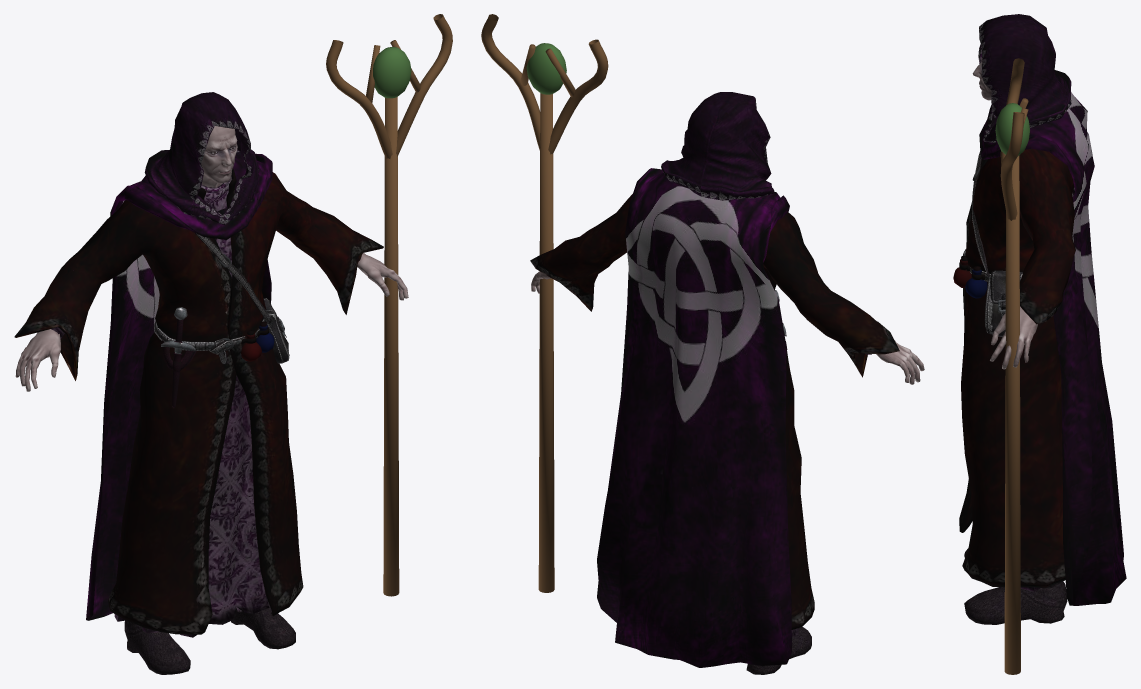
Rendered from actor-braevalar.glb.
3 renders of one model, left to right at view 1: azimuth 30°, elevation 25°; view 2: azimuth 150°, elevation 25°; view 3: azimuth 270°, elevation 25°, orthographic. The views are drawn at different scales.
Visible parts, largest first — view 1: mage · posed; view 2: mage · posed; view 3: mage · posed.
Part boxes in pixels (x1=…): mage · posed: x1=14, y1=14, x2=452, y2=674; mage · posed: x1=481, y1=14, x2=924, y2=674; mage · posed: x1=953, y1=14, x2=1126, y2=674.
Bounding box in the file's own units: 1.64 × 2.09 × 0.5488.
Materials: 3 (1 with a texture image).
